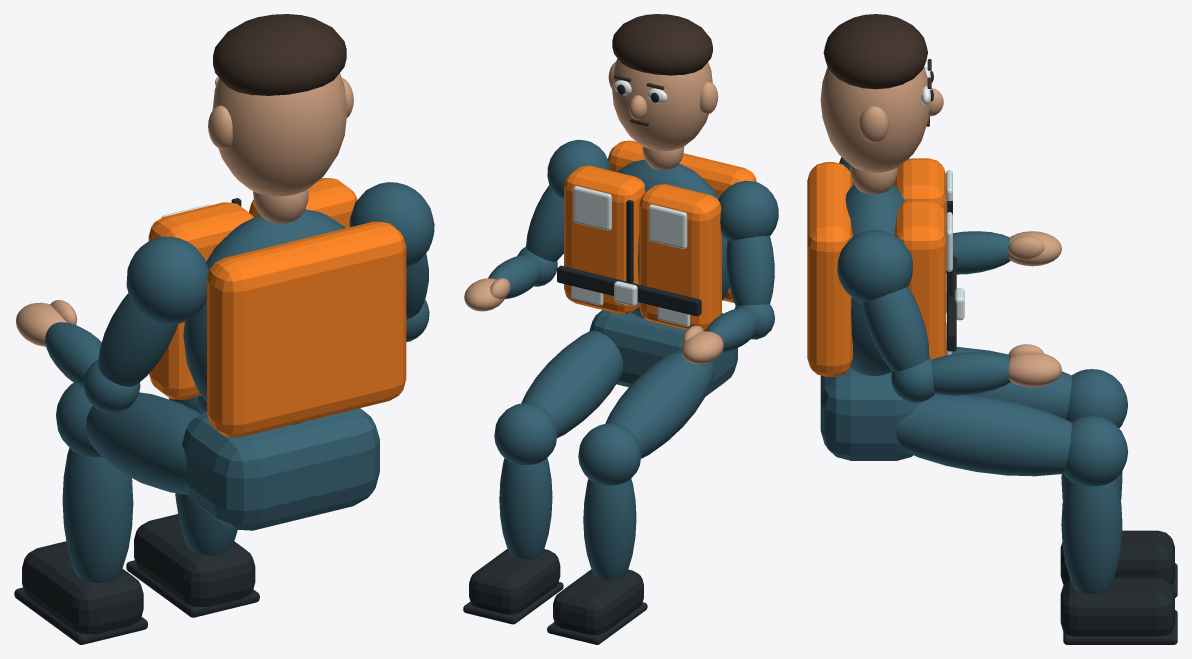
The model's file is RescuePerson_Seated.fbx.
3 renders of one model, left to right at view 1: azimuth 30°, elevation 25°; view 2: azimuth 150°, elevation 25°; view 3: azimuth 270°, elevation 25°, orthographic. The views are drawn at different scales.
Visible parts, largest first — view 1: PERSON___Life_jacket_back.001, PERSON___Hip_trousers.001, PERSON___Head.001, PERSON___Short_hair_cap.001, PERSON___Lower_trouser_leg_L.001, PERSON___Upper_trouser_leg_L.001, PERSON___Boot_L.001, PERSON___Boot_R.001, PERSON___Shoulder_L.001, PERSON___Life_jacket_front_float.001, PERSON___Torso.001, PERSON___Sleeve_L.001 (+12 smaller); view 2: PERSON___Life_jacket_front_float.001, PERSON___Life_jacket_front_float_001.001, PERSON___Upper_trouser_leg_L.001, PERSON___Upper_trouser_leg_R.001, PERSON___Head.001, PERSON___Short_hair_cap.001, PERSON___Lower_trouser_leg_L.001, PERSON___Lower_trouser_leg_R.001, PERSON___Hip_trousers.001, PERSON___Boot_R.001, PERSON___Boot_L.001, PERSON___Knee_L.001 (+22 smaller); view 3: PERSON___Upper_trouser_leg_R.001, PERSON___Life_jacket_back.001, PERSON___Head.001, PERSON___Hip_trousers.001, PERSON___Short_hair_cap.001, PERSON___Boot_R.001, PERSON___Lower_trouser_leg_R.001, PERSON___Life_jacket_front_float_001.001, PERSON___Shoulder_R.001, PERSON___Sleeve_R.001, PERSON___Torso.001, PERSON___Knee_R.001 (+14 smaller).
Part boxes in pixels (x1=…): PERSON___Life_jacket_back.001: x1=207, y1=221, x2=406, y2=437; PERSON___Hip_trousers.001: x1=182, y1=408, x2=379, y2=530; PERSON___Head.001: x1=212, y1=73, x2=346, y2=196; PERSON___Short_hair_cap.001: x1=213, y1=14, x2=346, y2=95; PERSON___Lower_trouser_leg_L.001: x1=62, y1=448, x2=133, y2=582; PERSON___Upper_trouser_leg_L.001: x1=86, y1=392, x2=200, y2=494; PERSON___Boot_L.001: x1=22, y1=541, x2=143, y2=634; PERSON___Boot_R.001: x1=134, y1=514, x2=255, y2=606; PERSON___Shoulder_L.001: x1=126, y1=236, x2=208, y2=325; PERSON___Life_jacket_front_float.001: x1=148, y1=202, x2=253, y2=399; PERSON___Torso.001: x1=183, y1=209, x2=346, y2=425; PERSON___Sleeve_L.001: x1=98, y1=293, x2=177, y2=386; PERSON___Life_jacket_front_float.001: x1=639, y1=184, x2=721, y2=331; PERSON___Life_jacket_front_float_001.001: x1=564, y1=165, x2=645, y2=314; PERSON___Upper_trouser_leg_L.001: x1=605, y1=352, x2=714, y2=458; PERSON___Upper_trouser_leg_R.001: x1=521, y1=330, x2=623, y2=438; PERSON___Head.001: x1=612, y1=58, x2=712, y2=151; PERSON___Short_hair_cap.001: x1=612, y1=14, x2=712, y2=75; PERSON___Lower_trouser_leg_L.001: x1=583, y1=478, x2=636, y2=579; PERSON___Lower_trouser_leg_R.001: x1=499, y1=458, x2=552, y2=559; PERSON___Hip_trousers.001: x1=589, y1=310, x2=737, y2=396; PERSON___Boot_R.001: x1=469, y1=549, x2=560, y2=614; PERSON___Boot_L.001: x1=553, y1=569, x2=643, y2=634; PERSON___Knee_L.001: x1=578, y1=423, x2=641, y2=485; PERSON___Upper_trouser_leg_R.001: x1=895, y1=393, x2=1071, y2=476; PERSON___Life_jacket_back.001: x1=807, y1=162, x2=852, y2=376; PERSON___Head.001: x1=820, y1=67, x2=929, y2=172; PERSON___Hip_trousers.001: x1=820, y1=367, x2=919, y2=460; PERSON___Short_hair_cap.001: x1=823, y1=14, x2=927, y2=89; PERSON___Boot_R.001: x1=1060, y1=577, x2=1174, y2=636; PERSON___Lower_trouser_leg_R.001: x1=1061, y1=479, x2=1122, y2=593; PERSON___Life_jacket_front_float_001.001: x1=894, y1=200, x2=946, y2=359; PERSON___Shoulder_R.001: x1=837, y1=230, x2=912, y2=302; PERSON___Sleeve_R.001: x1=862, y1=286, x2=929, y2=371; PERSON___Torso.001: x1=845, y1=185, x2=905, y2=376; PERSON___Knee_R.001: x1=1063, y1=416, x2=1127, y2=486.
Size of the model in its own units: 0.00878 by 0.0169 by 0.00971.
